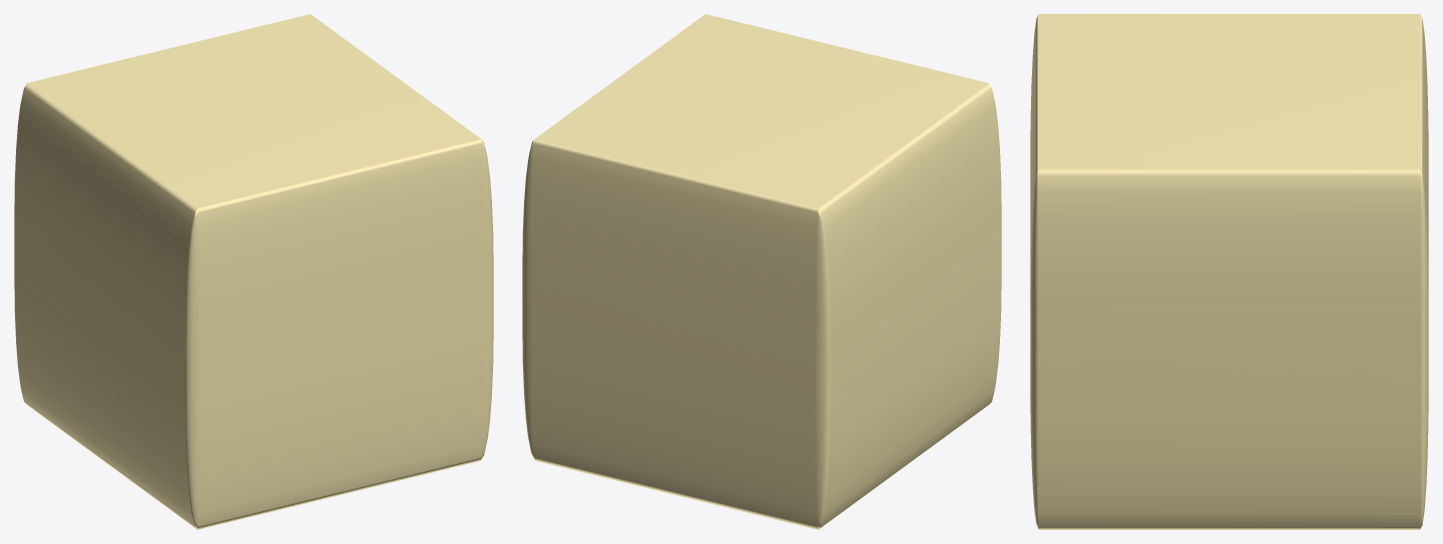
File: SM_Ramp.fbx
3 renders of one model, left to right at view 1: azimuth 30°, elevation 25°; view 2: azimuth 150°, elevation 25°; view 3: azimuth 270°, elevation 25°, orthographic. The views are drawn at different scales.
Parts seen in each view (by area): view 1: SM_Ramp_W400_L773, SM_Ramp_W400_L580, SM_Ramp_W150_L427, SM_Ramp_W200_L468; view 2: SM_Ramp_W400_L773, SM_Ramp_W400_L580, SM_Ramp_W150_L427, SM_Ramp_W200_L468; view 3: SM_Ramp_W400_L580, SM_Ramp_W400_L773, SM_Ramp_W200_L468, SM_Ramp_W150_L427.
Boxes of the visible parts, left/top/right/bottom form: SM_Ramp_W400_L773: left=14, top=14, right=493, bottom=529; SM_Ramp_W400_L580: left=16, top=15, right=484, bottom=528; SM_Ramp_W150_L427: left=18, top=22, right=463, bottom=401; SM_Ramp_W200_L468: left=17, top=19, right=465, bottom=400; SM_Ramp_W400_L773: left=522, top=14, right=1001, bottom=529; SM_Ramp_W400_L580: left=531, top=15, right=998, bottom=522; SM_Ramp_W150_L427: left=552, top=21, right=964, bottom=401; SM_Ramp_W200_L468: left=543, top=19, right=998, bottom=401; SM_Ramp_W400_L580: left=1041, top=14, right=1417, bottom=529; SM_Ramp_W400_L773: left=1030, top=14, right=1428, bottom=529; SM_Ramp_W200_L468: left=1044, top=20, right=1414, bottom=392; SM_Ramp_W150_L427: left=1045, top=25, right=1413, bottom=392.
Size of the model in its own units: 1 by 1 by 1.
